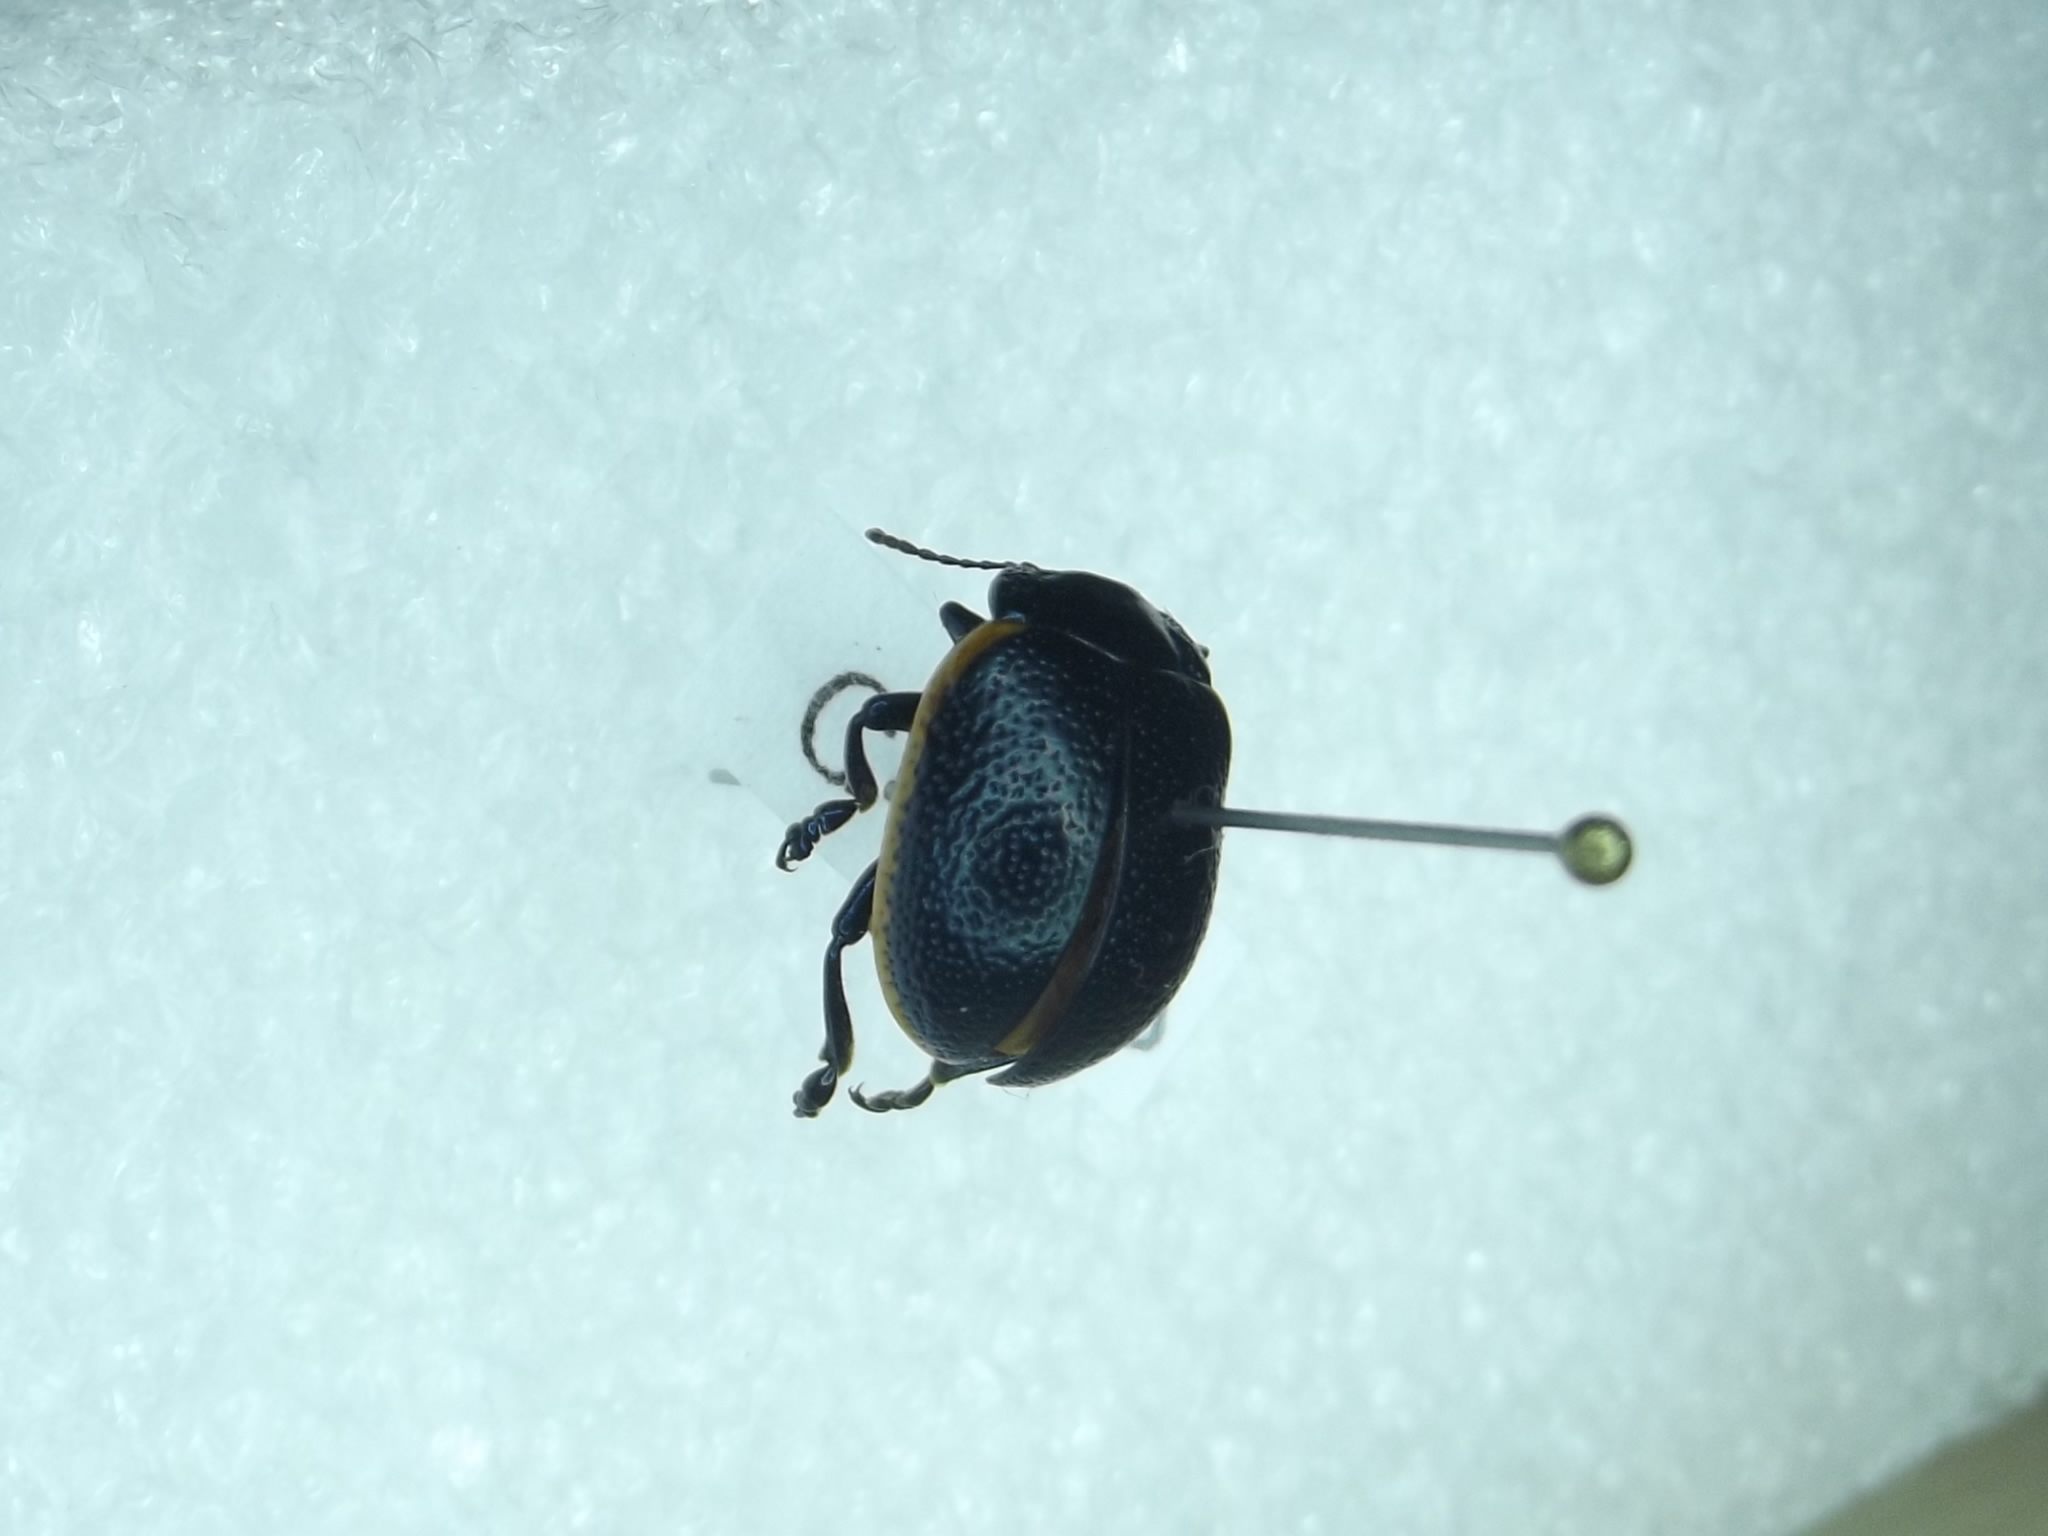Chrysolina_gypsophila: (761, 499, 1261, 1129)
